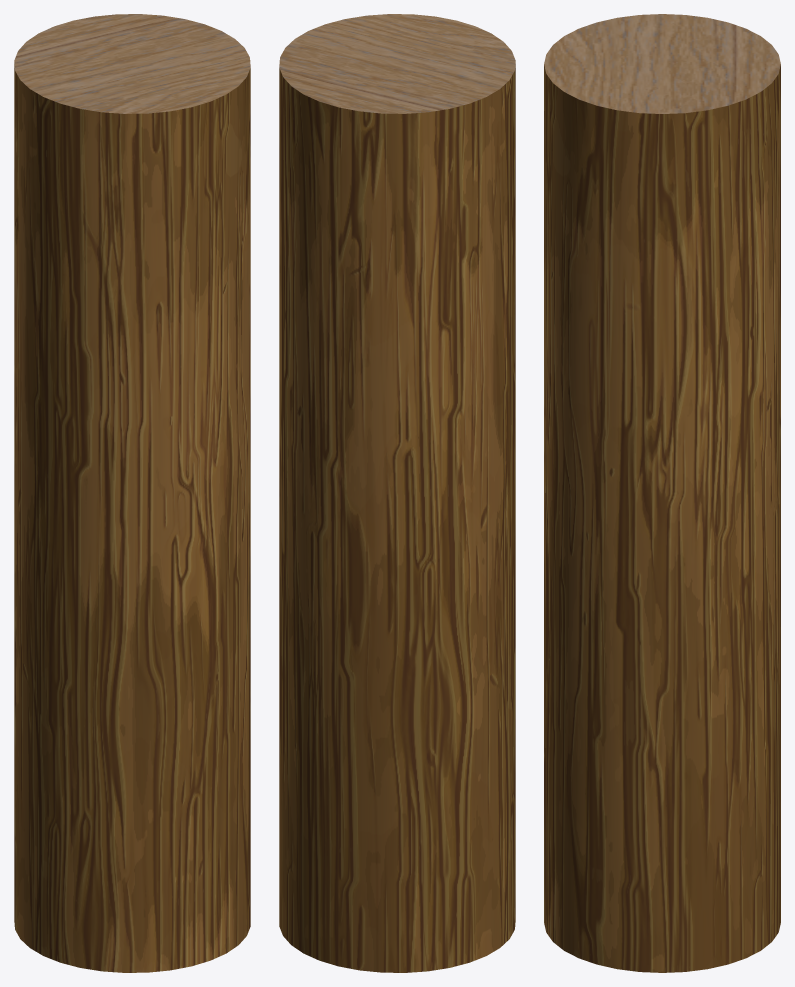
The model's file is Log.fbx.
3 renders of one model, left to right at view 1: azimuth 30°, elevation 25°; view 2: azimuth 150°, elevation 25°; view 3: azimuth 270°, elevation 25°, orthographic.
Visible parts, largest first — view 1: Cylinder; view 2: Cylinder; view 3: Cylinder.
Part boxes in pixels (x1,y1,x2,y2): Cylinder: (14,14,250,972); Cylinder: (279,14,515,972); Cylinder: (544,14,780,972).
Size of the model in its own units: 250 by 1000 by 250.
